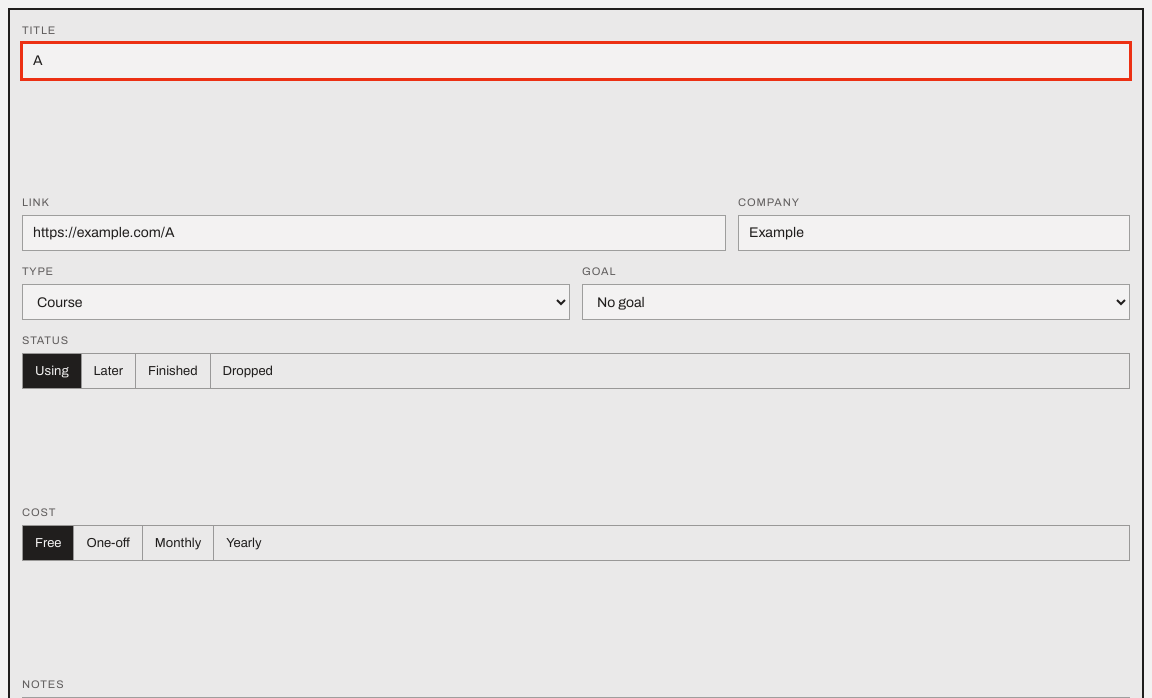
Scenario: ResourceEditPanel › shows price and renewal fields only when they apply
Click the radio button labelled "One-off" at (108, 543), box x1=73 y1=526 x2=142 y2=560
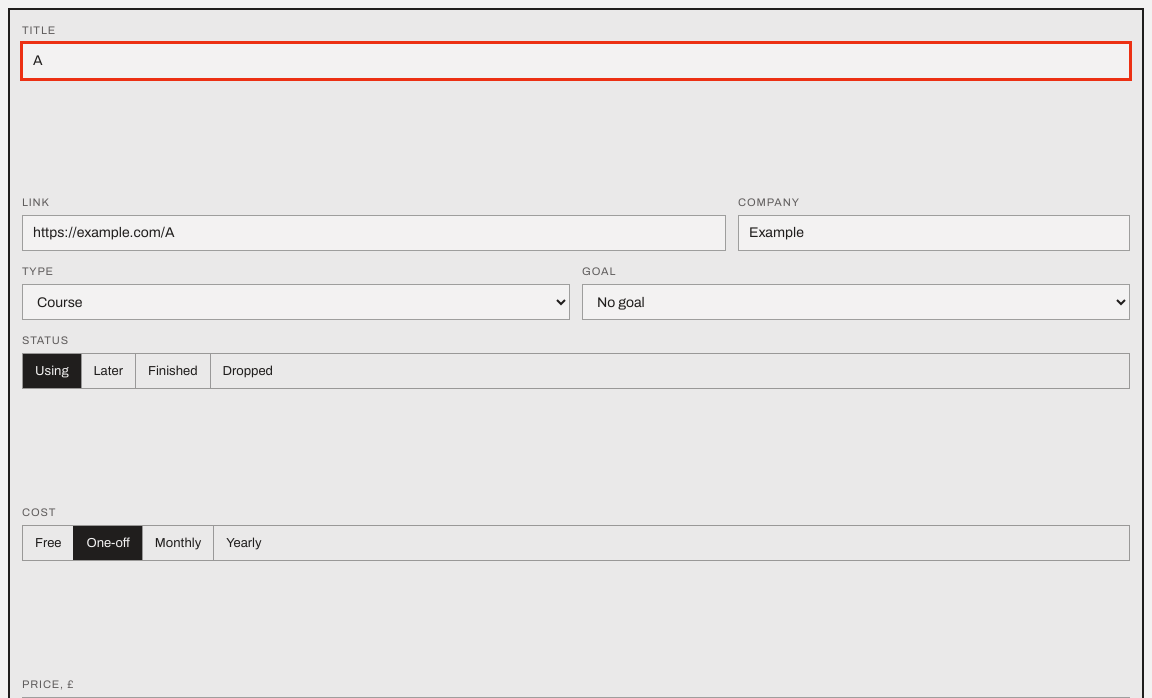
Click the radio button labelled "Yearly" at (243, 543), box x1=213 y1=526 x2=274 y2=560
(page scrolled)
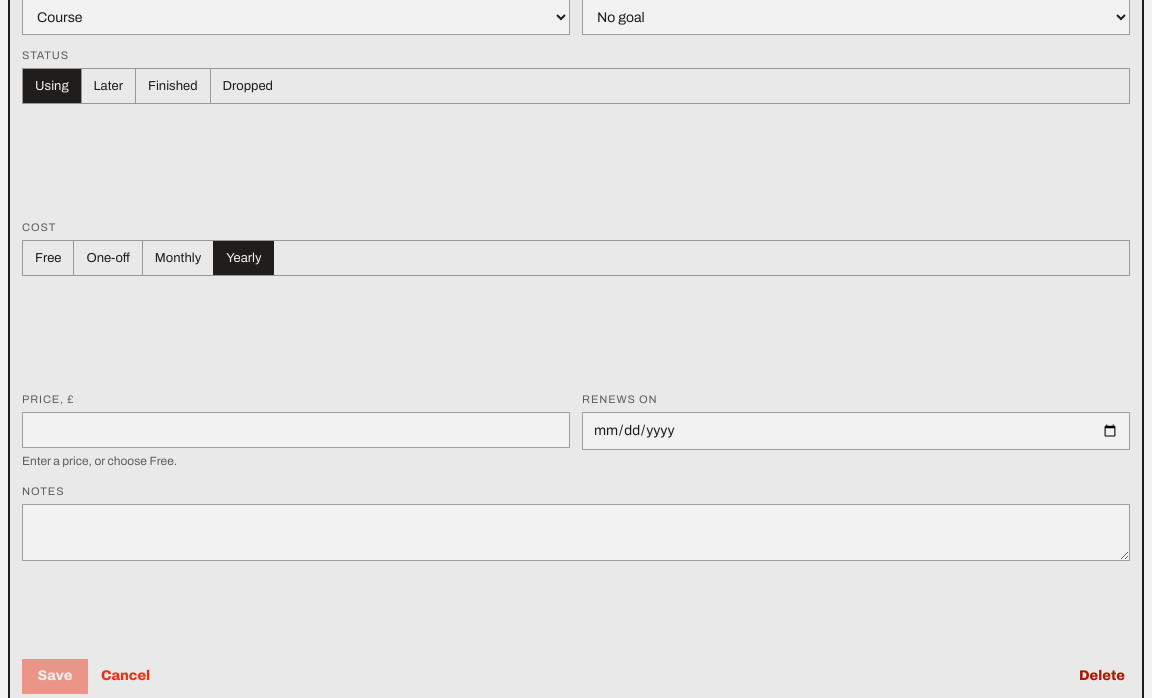
Now the date field with class "re-renews" is shown, box x1=582 y1=412 x2=1130 y2=450
